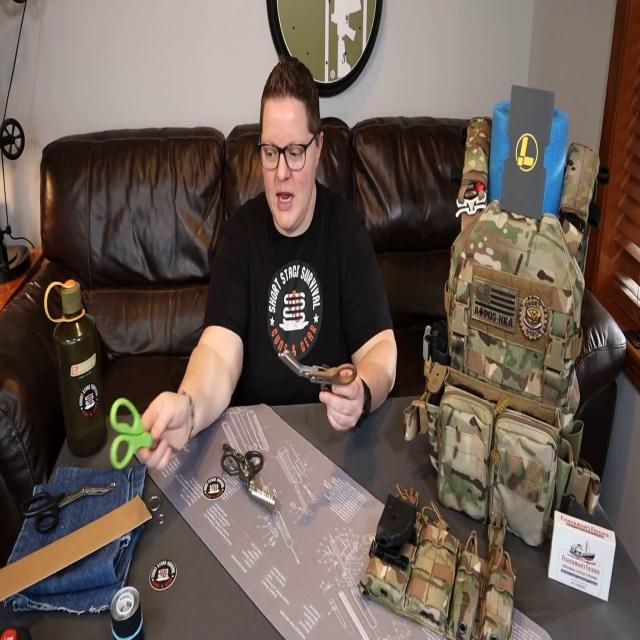scissor: (21, 482, 116, 532), (220, 443, 276, 506), (110, 398, 160, 468), (278, 349, 356, 393)
